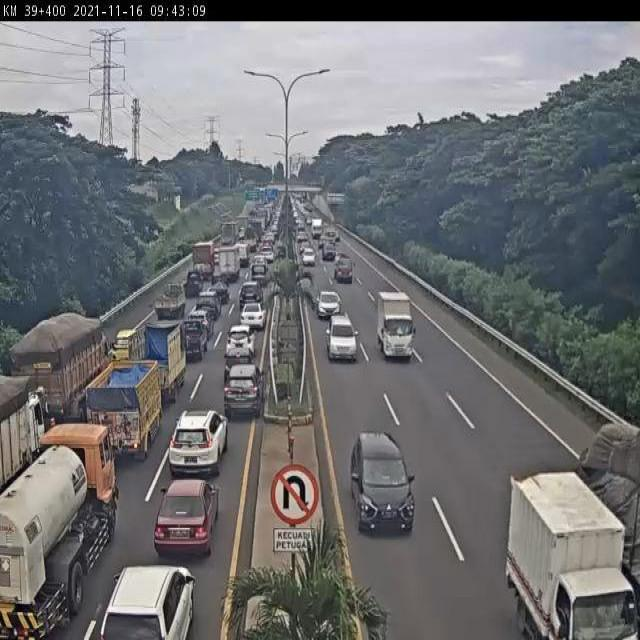car: (98, 565, 194, 640), (350, 430, 416, 538), (153, 477, 220, 559), (168, 410, 229, 478), (223, 361, 266, 420), (325, 315, 358, 361), (224, 325, 257, 359), (182, 319, 208, 361), (224, 347, 254, 380), (240, 301, 267, 331), (317, 290, 341, 318), (182, 269, 204, 299), (209, 273, 230, 304), (196, 292, 222, 317), (239, 284, 263, 309), (190, 312, 213, 336)
truck-l-: (0, 421, 117, 640), (12, 315, 110, 424)
truck-m-: (0, 378, 45, 498)
truck-s-: (510, 468, 640, 640), (88, 357, 163, 460), (128, 320, 187, 400), (377, 291, 416, 360), (152, 283, 185, 320)
